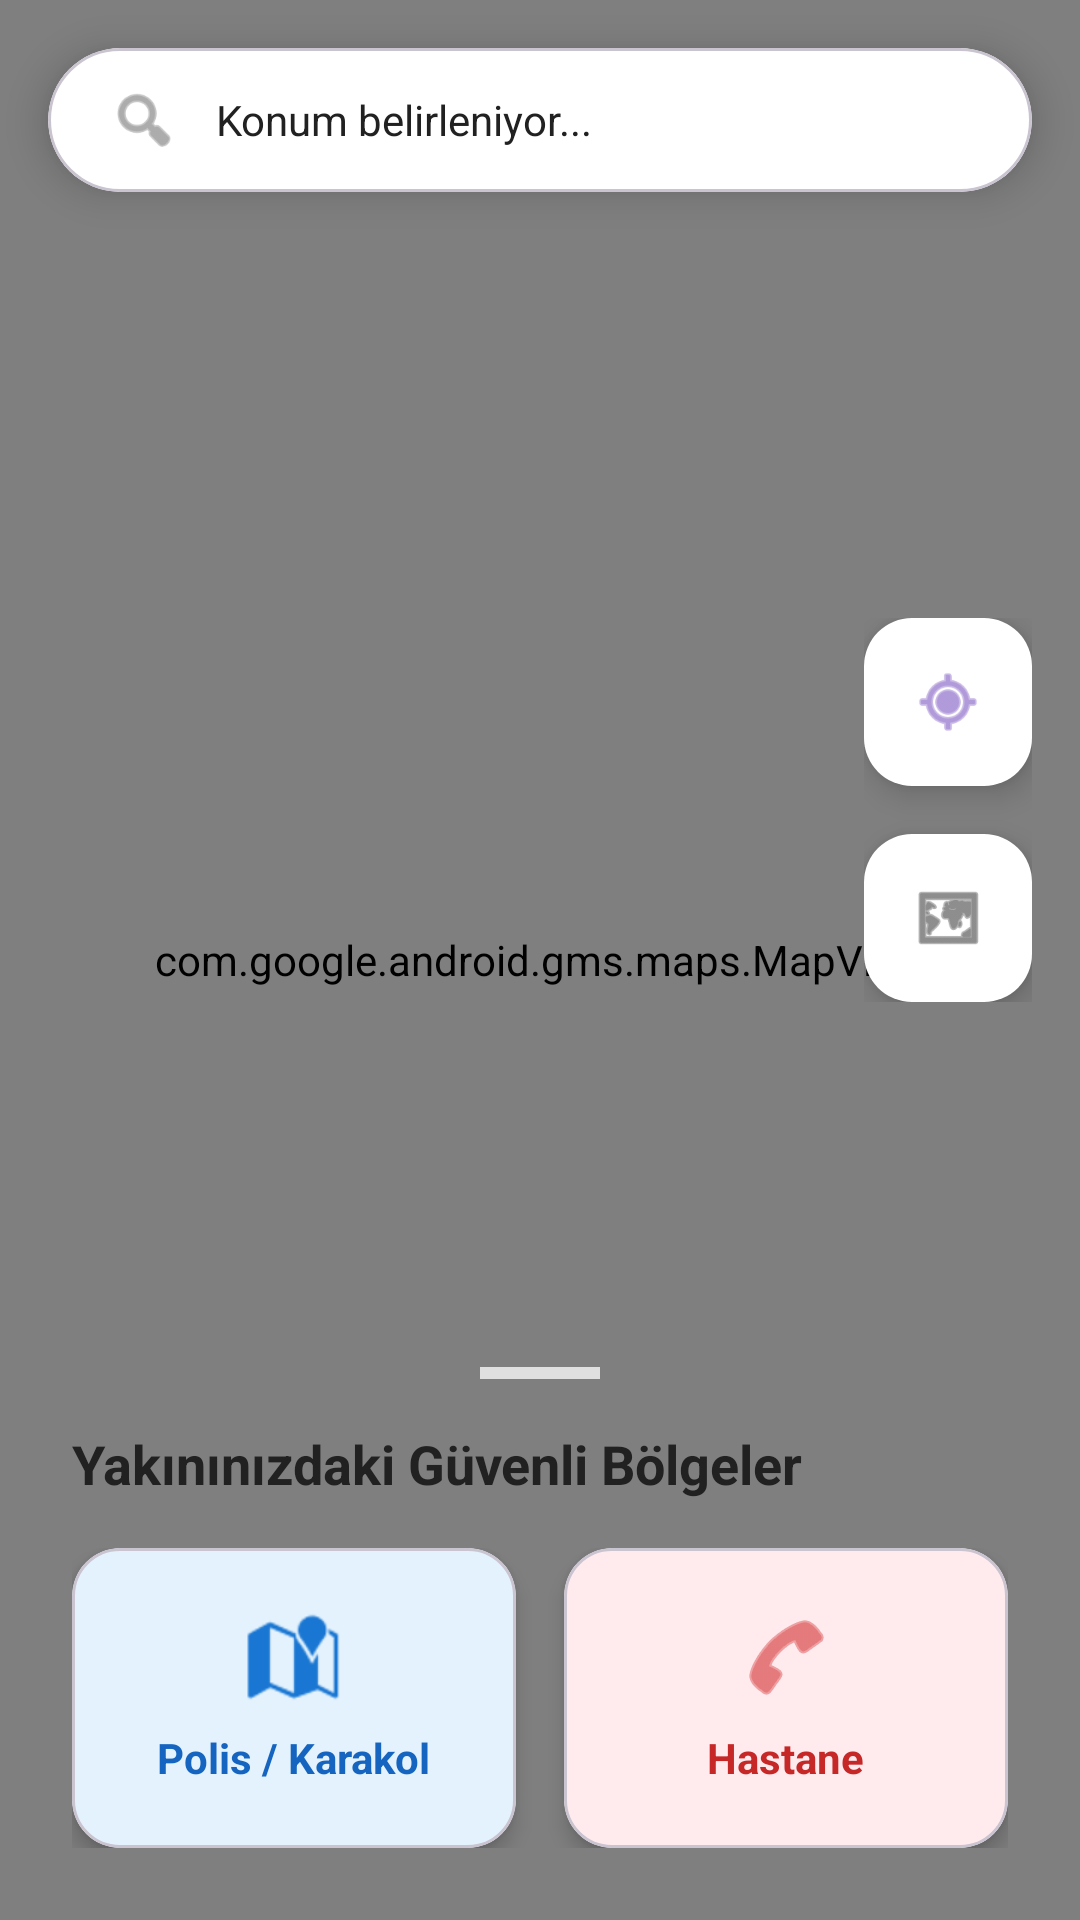

Icon bounding boxes for this 1080×1920 phone screenshot, format (x1, y1, x2, y2):
call: (749, 1620, 824, 1695)
Harita Tipi: (864, 834, 1032, 1002)
Konumum: (864, 618, 1032, 786)
map: (247, 1615, 339, 1699)
search: (118, 94, 170, 147)
